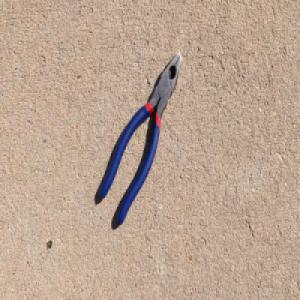Pliers: (98, 50, 182, 228)
